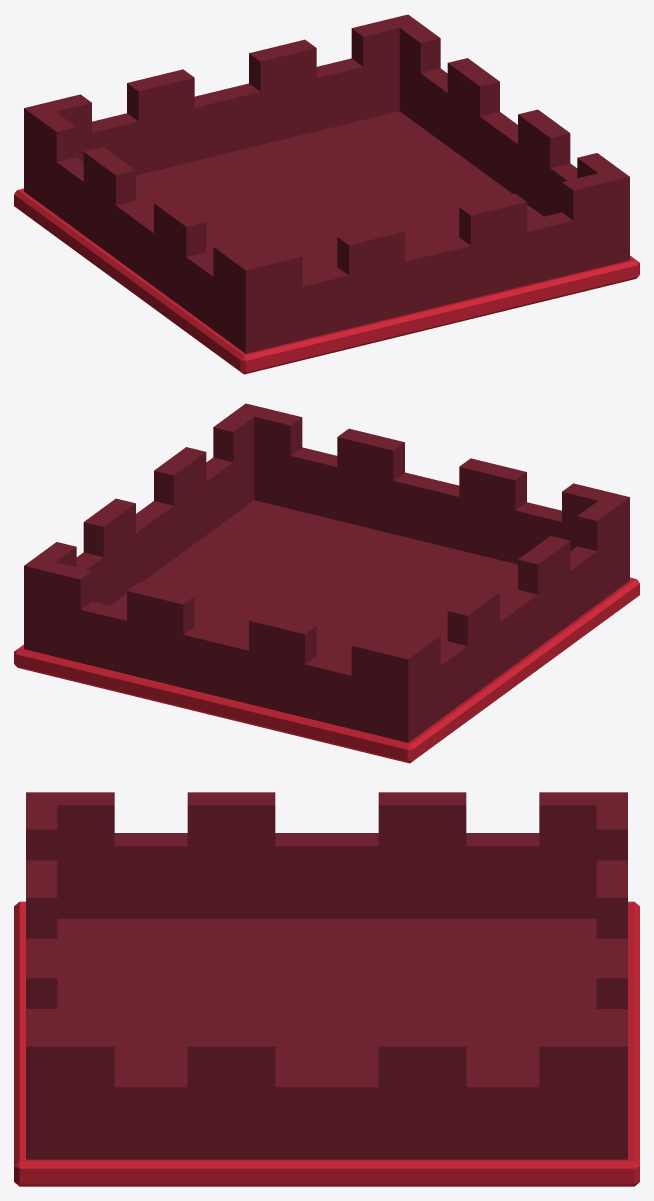
The model's file is tower_top_002_msh.fbx.
3 views of the same model, one above another, from view 1: azimuth 30°, elevation 25°; view 2: azimuth 150°, elevation 25°; view 3: azimuth 270°, elevation 25° (orthographic). The views are drawn at different scales.
Parts seen in each view (by area): view 1: tower_top_002_msh; view 2: tower_top_002_msh; view 3: tower_top_002_msh.
Boxes of the visible parts, x1=… form: tower_top_002_msh: x1=14, y1=14, x2=639, y2=374; tower_top_002_msh: x1=14, y1=403, x2=639, y2=763; tower_top_002_msh: x1=14, y1=792, x2=639, y2=1186.
Size of the model in its own units: 416 by 101 by 416.
